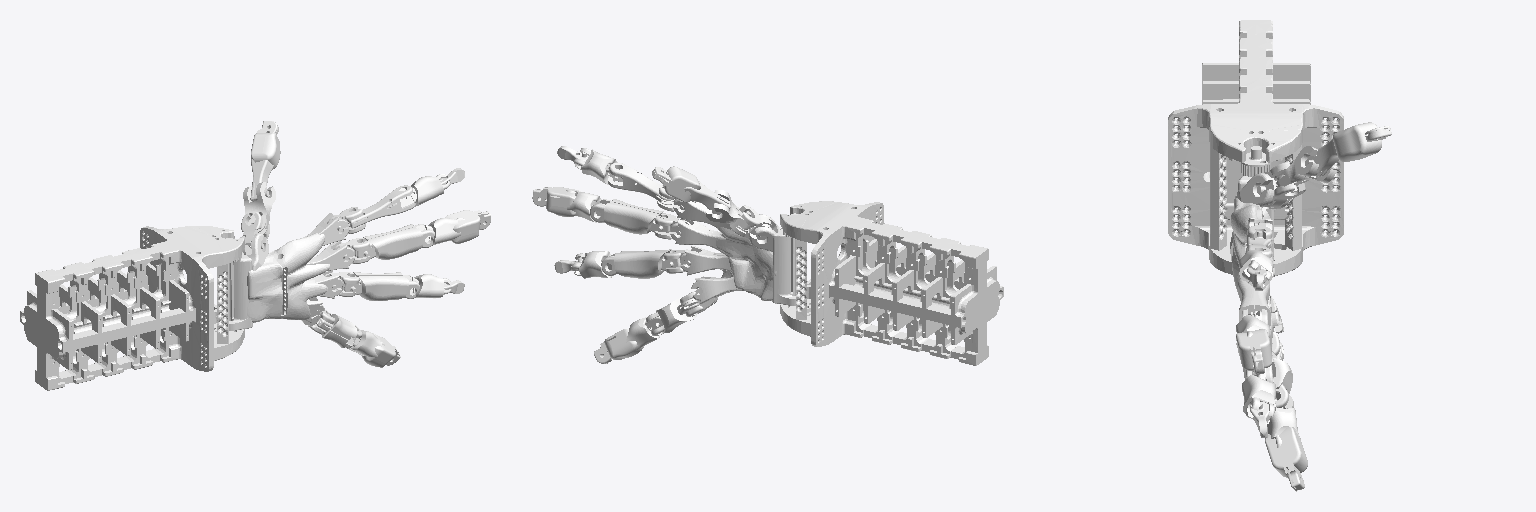
--- Facts derived from the render (not from the file) ---
3 views of the same robot in one strip: view 1: azimuth 30°, elevation 25°; view 2: azimuth 150°, elevation 25°; view 3: azimuth 270°, elevation 25° (orthographic).
Robot: converted_robot — 55 links, 54 joints (21 revolute, 33 fixed); root link hand_root; default pose: all joints at 0.
Links seen in each view (by area): view 1: tower, palm, middle_pp, ring_pp, index_pp, thumb_dp, thumb_pp, middle_dp, index_mp, pinky_pp, ring_mp, middle_mp (+4 smaller); view 2: tower, palm, middle_pp, ring_pp, index_pp, thumb_dp, pinky_pp, middle_dp, pinky_dp, index_mp, thumb_pp, ring_mp (+4 smaller); view 3: tower, palm, pinky_dp, thumb_dp, middle_dp, thumb_pp, ring_mp, middle_pp, thumb_base, pinky_pp, pinky_mp, index_mp (+1 smaller).
Link boxes in pixels (x1=…): tower: x1=20, y1=226, x2=244, y2=390; palm: x1=225, y1=213, x2=354, y2=330; middle_pp: x1=354, y1=224, x2=434, y2=259; ring_pp: x1=341, y1=272, x2=419, y2=300; index_pp: x1=347, y1=185, x2=415, y2=228; thumb_dp: x1=251, y1=121, x2=280, y2=169; thumb_pp: x1=243, y1=182, x2=275, y2=234; middle_dp: x1=445, y1=210, x2=490, y2=243; index_mp: x1=399, y1=174, x2=450, y2=207; pinky_pp: x1=316, y1=314, x2=361, y2=348; ring_mp: x1=404, y1=274, x2=451, y2=298; middle_mp: x1=416, y1=218, x2=464, y2=244; tower: x1=780, y1=201, x2=1003, y2=365; palm: x1=670, y1=199, x2=803, y2=305; middle_pp: x1=590, y1=199, x2=670, y2=234; ring_pp: x1=601, y1=249, x2=680, y2=278; index_pp: x1=608, y1=163, x2=674, y2=204; thumb_dp: x1=652, y1=166, x2=700, y2=202; pinky_pp: x1=646, y1=298, x2=698, y2=335; middle_dp: x1=532, y1=187, x2=580, y2=216; pinky_dp: x1=594, y1=329, x2=643, y2=363; index_mp: x1=574, y1=148, x2=622, y2=184; thumb_pp: x1=706, y1=190, x2=751, y2=231; ring_mp: x1=571, y1=251, x2=613, y2=278; tower: x1=1168, y1=20, x2=1343, y2=276; palm: x1=1230, y1=146, x2=1289, y2=333; pinky_dp: x1=1265, y1=427, x2=1307, y2=491; thumb_dp: x1=1333, y1=122, x2=1391, y2=161; middle_dp: x1=1236, y1=329, x2=1271, y2=374; thumb_pp: x1=1274, y1=146, x2=1336, y2=192; ring_mp: x1=1242, y1=368, x2=1275, y2=423; middle_pp: x1=1238, y1=279, x2=1270, y2=325; thumb_base: x1=1257, y1=162, x2=1305, y2=207; pinky_pp: x1=1272, y1=344, x2=1293, y2=408; pinky_mp: x1=1267, y1=392, x2=1299, y2=447; index_mp: x1=1239, y1=250, x2=1273, y2=289.
Size in the robot's own frame: 0.3551 by 0.1194 by 0.1821 metres.
Meshes: 22 distinct files referenced, 22 mesh visuals loaded (22 binary STL).

robot.urdf — converted_robot:
<?xml version="1.0" ?>
<robot name="converted_robot">
   <link name="hand_root">
      <inertial>
         <origin xyz="0.0 0.0 0.0" rpy="0.0 0.0 0.0"/>
         <mass value="0.0"/>
         <inertia ixx="0.0" iyy="0.0" izz="0.0" ixy="0" ixz="0" iyz="0"/>
      </inertial>
   </link>
   <link name="tower">
      <inertial>
         <origin xyz="0.06437901782600965 1.780279318620321e-05 -0.0003231375226686683" rpy="1.5837086827349487 -0.0029817795619724308 1.5715354932140642"/>
         <mass value="1.1686649766962816"/>
         <inertia ixx="0.0019657087041747615" iyy="0.0017826228325031161" izz="0.0006871001143970954" ixy="0" ixz="0" iyz="0"/>
      </inertial>
      <visual name="tower">
         <origin xyz="0.06437901782600965 1.780279318620321e-05 -0.0003231375226686683" rpy="1.5837086827349485 -0.0029817795619724308 1.5715354932140644"/>
         <geometry>
            <mesh filename="package://viz/models/orca2_hand/urdf/converted_tower.stl"/>
         </geometry>
         <material name="white"/>
      </visual>
   </link>
   <link name="root2tower_fixed_jointbody">
      <inertial>
         <origin xyz="0.0 0.0 0.0" rpy="0.0 0.0 0.0"/>
         <mass value="0.001"/>
         <inertia ixx="1e-09" iyy="1e-09" izz="1e-09" ixy="0" ixz="0" iyz="0"/>
      </inertial>
   </link>
   <joint type="fixed" name="root2tower_fixed">
      <parent link="hand_root"/>
      <child link="root2tower_fixed_jointbody"/>
      <origin xyz="0.0 0.0 0.0" rpy="0.0 0.0 0.0"/>
   </joint>
   <joint type="fixed" name="root2tower_fixed_offset">
      <parent link="root2tower_fixed_jointbody"/>
      <child link="tower"/>
      <origin xyz="-0.0 -0.0 -0.0" rpy="0.0 0.0 0.0"/>
   </joint>
   <link name="palm">
      <inertial>
         <origin xyz="0.0031912473878069774 -0.0006749899283967215 -0.015136850518871516" rpy="0.11405696582152314 0.0015084000918792473 1.5488013055321626"/>
         <mass value="0.15921340555544056"/>
         <inertia ixx="0.00012037851270871299" iyy="8.589315006598176e-05" izz="4.155619420983368e-05" ixy="0" ixz="0" iyz="0"/>
      </inertial>
      <visual name="palm_tower">
         <origin xyz="0.0031912473878069774 -0.0006749899283967215 -0.015136850518871516" rpy="0.11405696582152303 0.0015084000918792473 1.5488013055321623"/>
         <geometry>
            <mesh filename="package://viz/models/orca2_hand/urdf/converted_palm_tower.stl"/>
         </geometry>
         <material name="white"/>
      </visual>
   </link>
   <link name="tower2root_jointbody">
      <inertial>
         <origin xyz="0.0 0.0 0.0" rpy="0.0 0.0 0.0"/>
         <mass value="0.001"/>
         <inertia ixx="1e-09" iyy="1e-09" izz="1e-09" ixy="0" ixz="0" iyz="0"/>
      </inertial>
   </link>
   <joint type="revolute" name="tower2root">
      <parent link="tower"/>
      <child link="tower2root_jointbody"/>
      <origin xyz="0.144 5.994002132739204e-18 -4.119968255444917e-17" rpy="-0.0 1.5707963267948957 0.0"/>
      <axis xyz="0.9999999999999996 -1.0755285551056194e-15 4.9303806576312877e-32"/>
      <limit lower="-1.3962634015954636" upper="1.3962634015954636" effort="100" velocity="100"/>
   </joint>
   <joint type="fixed" name="tower2root_offset">
      <parent link="tower2root_jointbody"/>
      <child link="palm"/>
      <origin xyz="-0.0020000000000000035 -2.71190195469167e-33 0.05000000000000001" rpy="0.0 0.0 0.0"/>
   </joint>
   <link name="index_um">
      <inertial>
         <origin xyz="0.006732763304155957 4.001088863436687e-09 -2.0258619702217643e-05" rpy="-3.131684616200393 -1.561854856603541 -0.009908433449917098"/>
         <mass value="0.002607186033198995"/>
         <inertia ixx="1.3807074528604164e-07" iyy="1.1778104249469416e-07" izz="6.49217043247213e-08" ixy="0" ixz="0" iyz="0"/>
      </inertial>
      <visual name="index_um">
         <origin xyz="0.006732763304155957 4.001088863436687e-09 -2.0258619702217643e-05" rpy="-3.131684616200393 -1.561854856603541 -0.009908433449916876"/>
         <geometry>
            <mesh filename="package://viz/models/orca2_hand/urdf/converted_index_um.stl"/>
         </geometry>
         <material name="white"/>
      </visual>
   </link>
   <link name="index_abd_jointbody">
      <inertial>
         <origin xyz="0.0 0.0 0.0" rpy="0.0 0.0 0.0"/>
         <mass value="0.001"/>
         <inertia ixx="1e-09" iyy="1e-09" izz="1e-09" ixy="0" ixz="0" iyz="0"/>
      </inertial>
   </link>
   <joint type="revolute" name="index_abd">
      <parent link="palm"/>
      <child link="index_abd_jointbody"/>
      <origin xyz="-0.02202689829157017 0.0015684105070723296 0.035558225043102326" rpy="1.6580627893946036 1.3962634015954642 -9.658940314238862e-15"/>
      <axis xyz="1.942890293094024e-15 -1.1102230246251565e-16 0.9999999999999977"/>
      <limit lower="-0.4363323129985824" upper="0.6108652381980153" effort="100" velocity="100"/>
   </joint>
   <joint type="fixed" name="index_abd_offset">
      <parent link="index_abd_jointbody"/>
      <child link="index_um"/>
      <origin xyz="-0.0144 7.068998164605489e-17 -9.540979117872439e-18" rpy="0.0 0.0 0.0"/>
   </joint>
   <link name="index_pp">
      <inertial>
         <origin xyz="0.0008687401920092231 -2.4862054760042404e-05 0.022247108199277357" rpy="-0.00113071384580111 -0.012433056943532472 0.0237556697838349"/>
         <mass value="0.006075709241757069"/>
         <inertia ixx="1.2759699630750096e-06" iyy="1.261715939586915e-06" izz="1.1563772656262221e-07" ixy="0" ixz="0" iyz="0"/>
      </inertial>
      <visual name="index_pp">
         <origin xyz="0.0008687401920092231 -2.4862054760042404e-05 0.022247108199277357" rpy="-0.0011307138458011082 -0.012433056943532472 0.0237556697838349"/>
         <geometry>
            <mesh filename="package://viz/models/orca2_hand/urdf/converted_index_pp.stl"/>
         </geometry>
         <material name="white"/>
      </visual>
   </link>
   <link name="root2index_pp_jointbody">
      <inertial>
         <origin xyz="0.0 0.0 0.0" rpy="0.0 0.0 0.0"/>
         <mass value="0.001"/>
         <inertia ixx="1e-09" iyy="1e-09" izz="1e-09" ixy="0" ixz="0" iyz="0"/>
      </inertial>
   </link>
   <joint type="revolute" name="root2index_pp">
      <parent link="index_um"/>
      <child link="root2index_pp_jointbody"/>
      <origin xyz="3.9606233593205086e-17 -9.422367056560164e-17 1.3685221253534087e-17" rpy="-3.140184917367559e-16 -1.5707963267948915 0.0"/>
      <axis xyz="8.326672684688674e-16 -1.0000000000000082 -9.506284648352903e-16"/>
      <limit lower="-0.17453292519943295" upper="2.007128639793479" effort="100" velocity="100"/>
   </joint>
   <joint type="fixed" name="root2index_pp_offset">
      <parent link="root2index_pp_jointbody"/>
      <child link="index_pp"/>
      <origin xyz="-1.0507725389252553e-18 -1.0381299611154882e-17 1.8073894221564938e-18" rpy="0.0 0.0 0.0"/>
   </joint>
   <link name="index_mp">
      <inertial>
         <origin xyz="0.0013909738898894978 0.00016387532873425497 0.014968668474816213" rpy="0.03291128493942308 -0.020555715782136996 1.1076943559460612"/>
         <mass value="0.003108373341414378"/>
         <inertia ixx="3.251881563114705e-07" iyy="3.238587171666197e-07" izz="4.895669014432085e-08" ixy="0" ixz="0" iyz="0"/>
      </inertial>
      <visual name="index_mp">
         <origin xyz="0.0013909738898894978 0.00016387532873425497 0.014968668474816213" rpy="0.03291128493942308 -0.020555715782136774 1.107694355946061"/>
         <geometry>
            <mesh filename="package://viz/models/orca2_hand/urdf/converted_index_mp.stl"/>
         </geometry>
         <material name="white"/>
      </visual>
   </link>
   <link name="index_pp2mp_jointbody">
      <inertial>
         <origin xyz="0.0 0.0 0.0" rpy="0.0 0.0 0.0"/>
         <mass value="0.001"/>
         <inertia ixx="1e-09" iyy="1e-09" izz="1e-09" ixy="0" ixz="0" iyz="0"/>
      </inertial>
   </link>
   <joint type="revolute" name="index_pp2mp">
      <parent link="index_pp"/>
      <child link="index_pp2mp_jointbody"/>
      <origin xyz="-2.0218402492608785e-16 5.368471504812676e-17 0.040000000000000036" rpy="8.187894806610526e-16 4.440892098500626e-16 -6.661338147750935e-16"/>
      <axis xyz="2.7755575615628914e-16 -1.0000000000000036 -1.0408340855860843e-16"/>
      <limit lower="0.0" upper="2.0943951023931953" effort="100" velocity="100"/>
   </joint>
   <joint type="fixed" name="index_pp2mp_offset">
      <parent link="index_pp2mp_jointbody"/>
      <child link="index_mp"/>
      <origin xyz="-3.597547411660925e-18 6.102387480083956e-17 -5.305012189775878e-17" rpy="0.0 0.0 0.0"/>
   </joint>
   <link name="index_dp">
      <inertial>
         <origin xyz="-1.3890187096631583e-05 0.005054400100332685 -0.00020300962240500135" rpy="1.4604505475177294 -0.03444883339617988 0.0022630734580013634"/>
         <mass value="0.0011385821737687244"/>
         <inertia ixx="5.751980191525933e-08" iyy="5.65392336466142e-08" izz="1.0221302805317223e-08" ixy="0" ixz="0" iyz="0"/>
      </inertial>
      <visual name="index_dp">
         <origin xyz="-1.3890187096631583e-05 0.005054400100332685 -0.00020300962240500135" rpy="1.4604505475177294 -0.03444883339617988 0.0022630734580013634"/>
         <geometry>
            <mesh filename="package://viz/models/orca2_hand/urdf/converted_index_dp.stl"/>
         </geometry>
         <material name="white"/>
      </visual>
   </link>
   <link name="index_mp2dp_jointbody">
      <inertial>
         <origin xyz="0.0 0.0 0.0" rpy="0.0 0.0 0.0"/>
         <mass value="0.001"/>
         <inertia ixx="1e-09" iyy="1e-09" izz="1e-09" ixy="0" ixz="0" iyz="0"/>
      </inertial>
   </link>
   <joint type="revolute" name="index_mp2dp">
      <parent link="index_mp"/>
      <child link="index_mp2dp_jointbody"/>
      <origin xyz="0.000999999999999872 -2.15485181781494e-16 0.02799999999999978" rpy="1.5707963267948917 -3.552713678800501e-15 1.5707963267948988"/>
      <axis xyz="-0.9999999999999916 3.6012859361278515e-15 -1.0720591081536668e-15"/>
      <limit lower="0.0" upper="1.3089969389957472" effort="100" velocity="100"/>
   </joint>
   <joint type="fixed" name="index_mp2dp_offset">
      <parent link="index_mp2dp_jointbody"/>
      <child link="index_dp"/>
      <origin xyz="-9.999999999992125e-05 5.378659215064807e-18 1.170176016631816e-18" rpy="0.0 0.0 0.0"/>
   </joint>
   <link name="index_fingertip">
      <inertial>
         <origin xyz="0.0 0.02 -0.001306" rpy="0.0 0.0 0.0"/>
         <mass value="0.0"/>
         <inertia ixx="0.0" iyy="0.0" izz="0.0" ixy="0" ixz="0" iyz="0"/>
      </inertial>
   </link>
   <link name="index_dp2index_fingertip_fixed_jointbody">
      <inertial>
         <origin xyz="0.0 0.0 0.0" rpy="0.0 0.0 0.0"/>
         <mass value="0.001"/>
         <inertia ixx="1e-09" iyy="1e-09" izz="1e-09" ixy="0" ixz="0" iyz="0"/>
      </inertial>
   </link>
   <joint type="fixed" name="index_dp2index_fingertip_fixed">
      <parent link="index_dp"/>
      <child link="index_dp2index_fingertip_fixed_jointbody"/>
      <origin xyz="0.0 0.02 -0.001306" rpy="0.0 0.0 0.0"/>
   </joint>
   <joint type="fixed" name="index_dp2index_fingertip_fixed_offset">
      <parent link="index_dp2index_fingertip_fixed_jointbody"/>
      <child link="index_fingertip"/>
      <origin xyz="-0.0 -0.0 -0.0" rpy="0.0 0.0 0.0"/>
   </joint>
   <link name="pinky_um">
      <inertial>
         <origin xyz="0.006732763304155957 4.001088863436687e-09 -2.0258619702217643e-05" rpy="-3.131684616200393 -1.561854856603541 -0.009908433449917098"/>
         <mass value="0.002607186033198995"/>
         <inertia ixx="1.3807074528604164e-07" iyy="1.1778104249469416e-07" izz="6.49217043247213e-08" ixy="0" ixz="0" iyz="0"/>
      </inertial>
      <visual name="pinky_um">
         <origin xyz="0.006732763304155957 4.001088863436687e-09 -2.0258619702217643e-05" rpy="-3.131684616200393 -1.561854856603541 -0.009908433449916876"/>
         <geometry>
            <mesh filename="package://viz/models/orca2_hand/urdf/converted_pinky_um.stl"/>
         </geometry>
         <material name="white"/>
      </visual>
   </link>
   <link name="pinky_abd_jointbody">
      <inertial>
         <origin xyz="0.0 0.0 0.0" rpy="0.0 0.0 0.0"/>
         <mass value="0.001"/>
         <inertia ixx="1e-09" iyy="1e-09" izz="1e-09" ixy="0" ixz="0" iyz="0"/>
      </inertial>
   </link>
   <joint type="revolute" name="pinky_abd">
      <parent link="palm"/>
      <child link="pinky_abd_jointbody"/>
      <origin xyz="0.04123255613565274 0.005128234212297326 0.015805277968103576" rpy="-1.579920941226867 0.9076077576902897 -2.878188100691394"/>
      <axis xyz="-2.7755575615628914e-17 -1.6653345369377348e-16 -1.0000000000000009"/>
      <limit lower="-0.6108652381980153" upper="0.4363323129985824" effort="100" velocity="100"/>
   </joint>
   <joint type="fixed" name="pinky_abd_offset">
      <parent link="pinky_abd_jointbody"/>
      <child link="pinky_um"/>
      <origin xyz="-0.014400000000000007 1.1275702593849246e-17 -1.5829351718288365e-17" rpy="0.0 0.0 0.0"/>
   </joint>
   <link name="pinky_pp">
      <inertial>
         <origin xyz="0.0008258154520941577 -2.2222565756841063e-05 0.016729787379917885" rpy="-0.0012233283283072625 -0.019834837027373764 0.012268708074692703"/>
         <mass value="0.0046751560406718806"/>
         <inertia ixx="6.47008260669387e-07" iyy="6.357773713013815e-07" izz="9.004187327563991e-08" ixy="0" ixz="0" iyz="0"/>
      </inertial>
      <visual name="pinky_pp">
         <origin xyz="0.0008258154520941577 -2.2222565756841063e-05 0.016729787379917885" rpy="-0.0012233283283072625 -0.019834837027373764 0.012268708074692703"/>
         <geometry>
            <mesh filename="package://viz/models/orca2_hand/urdf/converted_pinky_pp.stl"/>
         </geometry>
         <material name="white"/>
      </visual>
   </link>
   <link name="root2pinky_pp_jointbody">
      <inertial>
         <origin xyz="0.0 0.0 0.0" rpy="0.0 0.0 0.0"/>
         <mass value="0.001"/>
         <inertia ixx="1e-09" iyy="1e-09" izz="1e-09" ixy="0" ixz="0" iyz="0"/>
      </inertial>
   </link>
   <joint type="revolute" name="root2pinky_pp">
      <parent link="pinky_um"/>
      <child link="root2pinky_pp_jointbody"/>
      <origin xyz="1.7702462397522765e-17 -1.1331096051742205e-17 -6.361123313678201e-18" rpy="-7.850462293418875e-17 -1.5707963267948963 0.0"/>
      <axis xyz="-3.885780586188048e-16 -0.9999999999999996 -8.465450562766819e-16"/>
      <limit lower="-0.17453292519943295" upper="2.007128639793479" effort="100" velocity="100"/>
   </joint>
   <joint type="fixed" name="root2pinky_pp_offset">
      <parent link="root2pinky_pp_jointbody"/>
      <child link="pinky_pp"/>
      <origin xyz="3.237906566374557e-18 2.1668957835962876e-18 -1.5894815400683688e-17" rpy="0.0 0.0 0.0"/>
   </joint>
   <link name="pinky_mp">
      <inertial>
         <origin xyz="0.0013909738898894978 0.00016387532873425497 0.014968668474816213" rpy="0.03291128493942308 -0.020555715782136996 1.1076943559460612"/>
         <mass value="0.003108373341414378"/>
         <inertia ixx="3.251881563114705e-07" iyy="3.238587171666197e-07" izz="4.895669014432085e-08" ixy="0" ixz="0" iyz="0"/>
      </inertial>
      <visual name="pinky_mp">
         <origin xyz="0.0013909738898894978 0.00016387532873425497 0.014968668474816213" rpy="0.03291128493942308 -0.020555715782136774 1.107694355946061"/>
         <geometry>
            <mesh filename="package://viz/models/orca2_hand/urdf/converted_pinky_mp.stl"/>
         </geometry>
         <material name="white"/>
      </visual>
   </link>
   <link name="pinky_pp2mp_jointbody">
      <inertial>
         <origin xyz="0.0 0.0 0.0" rpy="0.0 0.0 0.0"/>
         <mass value="0.001"/>
         <inertia ixx="1e-09" iyy="1e-09" izz="1e-09" ixy="0" ixz="0" iyz="0"/>
      </inertial>
   </link>
   <joint type="revolute" name="pinky_pp2mp">
      <parent link="pinky_pp"/>
      <child link="pinky_pp2mp_jointbody"/>
      <origin xyz="1.652844361054724e-18 -2.6807287263060844e-18 0.03000000000000004" rpy="2.49800180540661e-16 5.773159728050814e-15 7.395570986446986e-31"/>
      <axis xyz="-4.996003610813204e-16 -1.0000000000000064 -1.249000902703301e-16"/>
      <limit lower="0.0" upper="2.0943951023931953" effort="100" velocity="100"/>
   </joint>
   <joint type="fixed" name="pinky_pp2mp_offset">
      <parent link="pinky_pp2mp_jointbody"/>
      <child link="pinky_mp"/>
      <origin xyz="-8.591738264962151e-18 -2.3773804282340214e-17 3.419878436337367e-17" rpy="0.0 0.0 0.0"/>
   </joint>
   <link name="pinky_dp">
      <inertial>
         <origin xyz="-1.3890187096631583e-05 0.005054400100332685 -0.00020300962240500135" rpy="1.4604505475177294 -0.03444883339617988 0.0022630734580013634"/>
         <mass value="0.0011385821737687244"/>
         <inertia ixx="5.751980191525933e-08" iyy="5.65392336466142e-08" izz="1.0221302805317223e-08" ixy="0" ixz="0" iyz="0"/>
      </inertial>
      <visual name="pinky_dp">
         <origin xyz="-1.3890187096631583e-05 0.005054400100332685 -0.00020300962240500135" rpy="1.4604505475177294 -0.03444883339617988 0.0022630734580013634"/>
         <geometry>
            <mesh filename="package://viz/models/orca2_hand/urdf/converted_pinky_dp.stl"/>
         </geometry>
         <material name="white"/>
      </visual>
   </link>
   <link name="pinky_mp2dp_jointbody">
      <inertial>
         <origin xyz="0.0 0.0 0.0" rpy="0.0 0.0 0.0"/>
         <mass value="0.001"/>
         <inertia ixx="1e-09" iyy="1e-09" izz="1e-09" ixy="0" ixz="0" iyz="0"/>
      </inertial>
   </link>
   <joint type="revolute" name="pinky_mp2dp">
      <parent link="pinky_mp"/>
      <child link="pinky_mp2dp_jointbody"/>
      <origin xyz="0.0009999999999998701 2.946319403729358e-17 0.028000000000000025" rpy="1.5707963267948906 -6.661338147750939e-16 1.5707963267948968"/>
      <axis xyz="-0.9999999999999996 2.7755575615628914e-16 -4.718447854656915e-16"/>
      <limit lower="0.0" upper="1.3089969389957472" effort="100" velocity="100"/>
   </joint>
   <joint type="fixed" name="pinky_mp2dp_offset">
      <parent link="pinky_mp2dp_jointbody"/>
      <child link="pinky_dp"/>
      <origin xyz="-0.00010000000000000671 -4.875352237806302e-17 -1.2314164987183018e-17" rpy="0.0 0.0 0.0"/>
   </joint>
   <link name="pinky_fingertip">
      <inertial>
         <origin xyz="0.0 0.02 -0.001306" rpy="0.0 0.0 0.0"/>
         <mass value="0.0"/>
         <inertia ixx="0.0" iyy="0.0" izz="0.0" ixy="0" ixz="0" iyz="0"/>
      </inertial>
   </link>
   <link name="pinky_dp2pinky_fingertip_fixed_jointbody">
      <inertial>
         <origin xyz="0.0 0.0 0.0" rpy="0.0 0.0 0.0"/>
         <mass value="0.001"/>
         <inertia ixx="1e-09" iyy="1e-09" izz="1e-09" ixy="0" ixz="0" iyz="0"/>
      </inertial>
   </link>
   <joint type="fixed" name="pinky_dp2pinky_fingertip_fixed">
      <parent link="pinky_dp"/>
      <child link="pinky_dp2pinky_fingertip_fixed_jointbody"/>
      <origin xyz="0.0 0.02 -0.001306" rpy="0.0 0.0 0.0"/>
   </joint>
   <joint type="fixed" name="pinky_dp2pinky_fingertip_fixed_offset">
      <parent link="pinky_dp2pinky_fingertip_fixed_jointbody"/>
      <child link="pinky_fingertip"/>
      <origin xyz="-0.0 -0.0 -0.0" rpy="0.0 0.0 0.0"/>
   </joint>
   <link name="ring_um">
      <inertial>
         <origin xyz="0.006732763304155957 4.001088863436687e-09 -2.0258619702217643e-05" rpy="-3.131684616200393 -1.561854856603541 -0.009908433449917098"/>
         <mass value="0.002607186033198995"/>
         <inertia ixx="1.3807074528604164e-07" iyy="1.1778104249469416e-07" izz="6.49217043247213e-08" ixy="0" ixz="0" iyz="0"/>
      </inertial>
      <visual name="ring_um">
         <origin xyz="0.006732763304155957 4.001088863436687e-09 -2.0258619702217643e-05" rpy="-3.131684616200393 -1.561854856603541 -0.009908433449916876"/>
         <geometry>
            <mesh filename="package://viz/models/orca2_hand/urdf/converted_ring_um.stl"/>
         </geometry>
         <material name="white"/>
      </visual>
   </link>
   <link name="ring_abd_jointbody">
      <inertial>
         <origin xyz="0.0 0.0 0.0" rpy="0.0 0.0 0.0"/>
         <mass value="0.001"/>
         <inertia ixx="1e-09" iyy="1e-09" izz="1e-09" ixy="0" ixz="0" iyz="0"/>
      </inertial>
   </link>
   <joint type="revolute" name="ring_abd">
      <parent link="palm"/>
      <child link="ring_abd_jointbody"/>
      <origin xyz="0.019694864162417454 0.0013825982229840484 0.030586364349873843" rpy="-1.5707963267948946 1.308996938995747 -3.054326190990076"/>
      <axis xyz="-8.326672684688674e-17 2.220446049250313e-16 0.9999999999999979"/>
      <limit lower="-0.4363323129985824" upper="0.6108652381980153" effort="100" velocity="100"/>
   </joint>
   <joint type="fixed" name="ring_abd_offset">
      <parent link="ring_abd_jointbody"/>
      <child link="ring_um"/>
      <origin xyz="-0.014399999999999923 5.2475385148298415e-17 3.903127820947816e-18" rpy="0.0 0.0 0.0"/>
   </joint>
   <link name="ring_pp">
      <inertial>
         <origin xyz="0.0008879048431632835 -2.537949357785257e-05 0.026668810452510044" rpy="-0.0011314495857910837 -0.009859569454313544 0.029169093210231874"/>
         <mass value="0.007199054377400034"/>
         <inertia ixx="2.0187701497182777e-06" iyy="2.002065106814579e-06" izz="1.361803516902417e-07" ixy="0" ixz="0" iyz="0"/>
      </inertial>
      <visual name="ring_pp">
         <origin xyz="0.0008879048431632835 -2.537949357785257e-05 0.026668810452510044" rpy="-0.0011314495857910837 -0.009859569454313544 0.029169093210231874"/>
         <geometry>
            <mesh filename="package://viz/models/orca2_hand/urdf/converted_ring_pp.stl"/>
         </geometry>
         <material name="white"/>
      </visual>
   </link>
   <link name="root2ring_pp_jointbody">
      <inertial>
         <origin xyz="0.0 0.0 0.0" rpy="0.0 0.0 0.0"/>
         <mass value="0.001"/>
         <inertia ixx="1e-09" iyy="1e-09" izz="1e-09" ixy="0" ixz="0" iyz="0"/>
      </inertial>
   </link>
   <joint type="revolute" name="root2ring_pp">
      <parent link="ring_um"/>
      <child link="root2ring_pp_jointbody"/>
      <origin xyz="-7.079094348244037e-17 -1.1114218455696548e-16 2.2466569823203384e-17" rpy="3.552713678800501e-15 -1.5707963267948937 0.0"/>
      <axis xyz="1.887379141862766e-15 -1.0000000000000049 4.1494585545365226e-15"/>
      <limit lower="-0.17453292519943295" upper="2.007128639793479" effort="100" velocity="100"/>
   </joint>
   <joint type="fixed" name="root2ring_pp_offset">
      <parent link="root2ring_pp_jointbody"/>
      <child link="ring_pp"/>
      <origin xyz="-2.1621119931780223e-19 6.062911924869317e-18 4.472658181669709e-17" rpy="0.0 0.0 0.0"/>
   </joint>
   <link name="ring_mp">
      <inertial>
         <origin xyz="0.0013909738898894978 0.00016387532873425497 0.014968668474816213" rpy="0.03291128493942308 -0.020555715782136996 1.1076943559460612"/>
         <mass value="0.003108373341414378"/>
         <inertia ixx="3.251881563114705e-07" iyy="3.238587171666197e-07" izz="4.895669014432085e-08" ixy="0" ixz="0" iyz="0"/>
      </inertial>
      <visual name="ring_mp">
         <origin xyz="0.0013909738898894978 0.00016387532873425497 0.014968668474816213" rpy="0.03291128493942308 -0.020555715782136774 1.107694355946061"/>
         <geometry>
            <mesh filename="package://viz/models/orca2_hand/urdf/converted_ring_mp.stl"/>
         </geometry>
         <material name="white"/>
      </visual>
   </link>
   <link name="ring_pp2mp_jointbody">
      <inertial>
         <origin xyz="0.0 0.0 0.0" rpy="0.0 0.0 0.0"/>
         <mass value="0.001"/>
         <inertia ixx="1e-09" iyy="1e-09" izz="1e-09" ixy="0" ixz="0" iyz="0"/>
      </inertial>
   </link>
   <joint type="revolute" name="ring_pp2mp">
      <parent link="ring_pp"/>
      <child link="ring_pp2mp_jointbody"/>
      <origin xyz="3.376451560558019e-17 2.7849414523275e-16 0.04800000000000019" rpy="1.0269562977782832e-15 8.43769498715119e-15 2.664535259100386e-15"/>
      <axis xyz="-1.9984014443252818e-15 -0.9999999999999992 2.5396351688300456e-15"/>
      <limit lower="0.0" upper="2.0943951023931953" effort="100" velocity="100"/>
   </joint>
   <joint type="fixed" name="ring_pp2mp_offset">
      <parent link="ring_pp2mp_jointbody"/>
      <child link="ring_mp"/>
      <origin xyz="6.5678052108806596e-18 -7.769990288843462e-17 -3.518696938514808e-17" rpy="0.0 0.0 0.0"/>
   </joint>
   <link name="ring_dp">
      <inertial>
         <origin xyz="-1.3890187096631583e-05 0.005054400100332685 -0.00020300962240500135" rpy="1.4604505475177294 -0.03444883339617988 0.0022630734580013634"/>
         <mass value="0.0011385821737687244"/>
         <inertia ixx="5.751980191525933e-08" iyy="5.65392336466142e-08" izz="1.0221302805317223e-08" ixy="0" ixz="0" iyz="0"/>
      </inertial>
      <visual name="ring_dp">
         <origin xyz="-1.3890187096631583e-05 0.005054400100332685 -0.00020300962240500135" rpy="1.4604505475177294 -0.03444883339617988 0.0022630734580013634"/>
         <geometry>
            <mesh filename="package://viz/models/orca2_hand/urdf/converted_ring_dp.stl"/>
         </geometry>
         <material name="white"/>
      </visual>
   </link>
   <link name="ring_mp2dp_jointbody">
      <inertial>
         <origin xyz="0.0 0.0 0.0" rpy="0.0 0.0 0.0"/>
         <mass value="0.001"/>
         <inertia ixx="1e-09" iyy="1e-09" izz="1e-09" ixy="0" ixz="0" iyz="0"/>
      </inertial>
   </link>
   <joint type="revolute" name="ring_mp2dp">
      <parent link="ring_mp"/>
      <child link="ring_mp2dp_jointbody"/>
      <origin xyz="0.0009999999999997717 -1.8811635228396815e-16 0.028000000000000053" rpy="1.5707963267948908 4.6629367034256575e-15 1.5707963267948934"/>
      <axis xyz="-1.0000000000000004 -2.213507155346406e-15 3.656797087359109e-15"/>
      <limit lower="0.0" upper="1.3089969389957472" effort="100" velocity="100"/>
   </joint>
   <joint type="fixed" name="ring_mp2dp_offset">
      <parent link="ring_mp2dp_jointbody"/>
      <child link="ring_dp"/>
      <origin xyz="-1.2738647990931297e-16 -1.203371633436387e-16 1.0888894666999057e-17" rpy="0.0 0.0 0.0"/>
   </joint>
   <link name="ring_fingertip">
      <inertial>
         <origin xyz="0.0 0.02 -0.001306" rpy="0.0 0.0 0.0"/>
         <mass value="0.0"/>
         <inertia ixx="0.0" iyy="0.0" izz="0.0" ixy="0" ixz="0" iyz="0"/>
      </inertial>
   </link>
   <link name="ring_dp2ring_fingertip_fixed_jointbody">
      <inertial>
         <origin xyz="0.0 0.0 0.0" rpy="0.0 0.0 0.0"/>
         <mass value="0.001"/>
         <inertia ixx="1e-09" iyy="1e-09" izz="1e-09" ixy="0" ixz="0" iyz="0"/>
      </inertial>
   </link>
   <joint type="fixed" name="ring_dp2ring_fingertip_fixed">
      <parent link="ring_dp"/>
      <child link="ring_dp2ring_fingertip_fixed_jointbody"/>
      <origin xyz="0.0 0.02 -0.001306" rpy="0.0 0.0 0.0"/>
   </joint>
   <joint type="fixed" name="ring_dp2ring_fingertip_fixed_offset">
      <parent link="ring_dp2ring_fingertip_fixed_jointbody"/>
      <child link="ring_fingertip"/>
      <origin xyz="-0.0 -0.0 -0.0" rpy="0.0 0.0 0.0"/>
   </joint>
   <link name="thumb_base">
      <inertial>
         <origin xyz="0.009146054539715962 5.296465019593427e-05 2.762635867494183e-06" rpy="1.5609087911830748 -1.5306517014896879 1.599685076742187"/>
         <mass value="0.004462909298601651"/>
         <inertia ixx="3.475601337005608e-07" iyy="3.0144183100196083e-07" izz="1.505553164619097e-07" ixy="0" ixz="0" iyz="0"/>
      </inertial>
      <visual name="thumb_base">
         <origin xyz="0.009146054539715962 5.296465019593427e-05 2.762635867494183e-06" rpy="1.5609087911830748 -1.5306517014896879 1.599685076742187"/>
         <geometry>
            <mesh filename="package://viz/models/orca2_hand/urdf/converted_thumb_base.stl"/>
         </geometry>
         <material name="white"/>
      </visual>
   </link>
   <link name="root2thumb_base_jointbody">
      <inertial>
         <origin xyz="0.0 0.0 0.0" rpy="0.0 0.0 0.0"/>
         <mass value="0.001"/>
         <inertia ixx="1e-09" iyy="1e-09" izz="1e-09" ixy="0" ixz="0" iyz="0"/>
      </inertial>
   </link>
   <joint type="revolute" name="root2thumb_base">
      <parent link="palm"/>
      <child link="root2thumb_base_jointbody"/>
      <origin xyz="-0.019336685560293027 0.007354881795979842 -0.02738447811197527" rpy="0.8650692244264337 0.5077476451224614 -0.8026267442856483"/>
      <axis xyz="3.0531133177191805e-16 4.440892098500626e-15 0.9999999999999966"/>
      <limit lower="-1.3089969389957472" upper="1.3089969389957472" effort="100" velocity="100"/>
   </joint>
   <joint type="fixed" name="root2thumb_base_offset">
      <parent link="root2thumb_base_jointbody"/>
      <child link="thumb_base"/>
      <origin xyz="-0.016900000000000383 -1.2663481374630692e-16 -1.857238321467669e-16" rpy="0.0 0.0 0.0"/>
   </joint>
   <link name="thumb_pp">
      <inertial>
         <origin xyz="0.011052064663332051 1.6203312209423124e-05 3.4258699652190326e-05" rpy="0.033962151123506645 -1.5659078669478594 3.111696080587949"/>
         <mass value="0.005199376106974465"/>
         <inertia ixx="5.397346277253312e-07" iyy="4.918763012442806e-07" izz="1.6602184630010976e-07" ixy="0" ixz="0" iyz="0"/>
      </inertial>
      <visual name="thumb_pp">
         <origin xyz="0.011052064663332051 1.6203312209423124e-05 3.4258699652190326e-05" rpy="0.033962151123505535 -1.5659078669478592 3.1116960805879503"/>
         <geometry>
            <mesh filename="package://viz/models/orca2_hand/urdf/converted_thumb_pp.stl"/>
         </geometry>
         <material name="white"/>
      </visual>
   </link>
   <link name="thumb_base2pp_jointbody">
      <inertial>
         <origin xyz="0.0 0.0 0.0" rpy="0.0 0.0 0.0"/>
         <mass value="0.001"/>
         <inertia ixx="1e-09" iyy="1e-09" izz="1e-09" ixy="0" ixz="0" iyz="0"/>
      </inertial>
   </link>
   <joint type="revolute" name="thumb_base2pp">
      <parent link="thumb_base"/>
      <child link="thumb_base2pp_jointbody"/>
      <origin xyz="5.793976409762536e-16 1.6683717543749632e-16 1.0319280192681784e-16" rpy="-1.5707963267949 -3.1086244689504383e-15 -1.4654943925052066e-14"/>
      <axis xyz="-1.5015766408055242e-14 -5.745404152435185e-15 0.999999999999998"/>
      <limit lower="-0.7853981633974483" upper="0.7853981633974483" effort="100" velocity="100"/>
   </joint>
   <joint type="fixed" name="thumb_base2pp_offset">
      <parent link="thumb_base2pp_jointbody"/>
      <child link="thumb_pp"/>
      <origin xyz="-0.023000000000001106 -1.6393136847980827e-16 -5.915407053080912e-16" rpy="0.0 0.0 0.0"/>
   </joint>
   <link name="thumb_mp">
      <inertial>
         <origin xyz="0.0008724539758762056 2.4727438746056388e-05 0.014659312447177586" rpy="-0.0003364028998661733 -0.01711516449902417 0.008877420129339876"/>
         <mass value="0.004529151319492986"/>
         <inertia ixx="5.870714715027592e-07" iyy="5.782548760385939e-07" izz="9.130226060122018e-08" ixy="0" ixz="0" iyz="0"/>
      </inertial>
      <visual name="thumb_mp">
         <origin xyz="0.0008724539758762056 2.4727438746056388e-05 0.014659312447177586" rpy="-0.0003364028998661733 -0.01711516449902417 0.008877420129339876"/>
         <geometry>
            <mesh filename="package://viz/models/orca2_hand/urdf/converted_thumb_mp.stl"/>
         </geometry>
         <material name="white"/>
      </visual>
   </link>
   <link name="thumb_pp2mp_jointbody">
      <inertial>
         <origin xyz="0.0 0.0 0.0" rpy="0.0 0.0 0.0"/>
         <mass value="0.001"/>
         <inertia ixx="1e-09" iyy="1e-09" izz="1e-09" ixy="0" ixz="0" iyz="0"/>
      </inertial>
   </link>
   <joint type="revolute" name="thumb_pp2mp">
      <parent link="thumb_pp"/>
      <child link="thumb_pp2mp_jointbody"/>
      <origin xyz="1.1005837463337052e-15 1.7945721429140714e-16 6.444859462348048e-16" rpy="3.141592653589785 1.5707963267948641 0.0"/>
      <axis xyz="1.9984014443252818e-14 -0.9999999999999943 -1.1435297153639112e-14"/>
      <limit lower="-0.17453292519943295" upper="1.5707963267948966" effort="100" velocity="100"/>
   </joint>
   <joint type="fixed" name="thumb_pp2mp_offset">
      <parent link="thumb_pp2mp_jointbody"/>
      <child link="thumb_mp"/>
      <origin xyz="-8.28264772479016e-18 5.058868245246064e-18 -9.571993728557986e-17" rpy="0.0 0.0 0.0"/>
   </joint>
   <link name="thumb_dp">
      <inertial>
         <origin xyz="1.0065826614441387e-05 0.006272335517680365 -0.00010113404865312324" rpy="1.4779757020900604 0.03179381852807506 -0.0019765844728094617"/>
         <mass value="0.001814128231283667"/>
         <inertia ixx="1.4115416029381981e-07" iyy="1.3962326809815754e-07" izz="2.257709422103513e-08" ixy="0" ixz="0" iyz="0"/>
      </inertial>
      <visual name="thumb_dp">
         <origin xyz="1.0065826614441387e-05 0.006272335517680365 -0.00010113404865312324" rpy="1.4779757020900601 0.03179381852807506 -0.0019765844728094617"/>
         <geometry>
            <mesh filename="package://viz/models/orca2_hand/urdf/converted_thumb_dp.stl"/>
         </geometry>
         <material name="white"/>
      </visual>
   </link>
   <link name="thumb_mp2dp_jointbody">
      <inertial>
         <origin xyz="0.0 0.0 0.0" rpy="0.0 0.0 0.0"/>
         <mass value="0.001"/>
         <inertia ixx="1e-09" iyy="1e-09" izz="1e-09" ixy="0" ixz="0" iyz="0"/>
      </inertial>
   </link>
   <joint type="revolute" name="thumb_mp2dp">
      <parent link="thumb_mp"/>
      <child link="thumb_mp2dp_jointbody"/>
      <origin xyz="4.2281847092080333e-16 4.4349038165432816e-16 0.0299999999999999" rpy="1.5707963267949152 -7.549516567451064e-15 1.5707963267949303"/>
      <axis xyz="0.9999999999999917 6.494804694057166e-15 1.62231339473351e-14"/>
      <limit lower="-1.7453292519943295" upper="0.0" effort="100" velocity="100"/>
   </joint>
   <joint type="fixed" name="thumb_mp2dp_offset">
      <parent link="thumb_mp2dp_jointbody"/>
      <child link="thumb_dp"/>
      <origin xyz="1.2741892527574519e-17 -1.005995402266765e-16 -9.397995200594752e-17" rpy="0.0 0.0 0.0"/>
   </joint>
   <link name="thumb_fingertip">
      <inertial>
         <origin xyz="0.0 0.02425 -0.001189" rpy="0.0 0.0 0.0"/>
         <mass value="0.0"/>
         <inertia ixx="0.0" iyy="0.0" izz="0.0" ixy="0" ixz="0" iyz="0"/>
      </inertial>
   </link>
   <link name="thumb_dp2thumb_fingertip_fixed_jointbody">
      <inertial>
         <origin xyz="0.0 0.0 0.0" rpy="0.0 0.0 0.0"/>
         <mass value="0.001"/>
         <inertia ixx="1e-09" iyy="1e-09" izz="1e-09" ixy="0" ixz="0" iyz="0"/>
      </inertial>
   </link>
   <joint type="fixed" name="thumb_dp2thumb_fingertip_fixed">
      <parent link="thumb_dp"/>
      <child link="thumb_dp2thumb_fingertip_fixed_jointbody"/>
      <origin xyz="0.0 0.02425 -0.001189" rpy="0.0 0.0 0.0"/>
   </joint>
   <joint type="fixed" name="thumb_dp2thumb_fingertip_fixed_offset">
      <parent link="thumb_dp2thumb_fingertip_fixed_jointbody"/>
      <child link="thumb_fingertip"/>
      <origin xyz="-0.0 -0.0 -0.0" rpy="0.0 0.0 0.0"/>
   </joint>
   <link name="middle_um">
      <inertial>
         <origin xyz="0.006732763304155957 4.001088863436687e-09 -2.0258619702217643e-05" rpy="-3.131684616200393 -1.561854856603541 -0.009908433449917098"/>
         <mass value="0.002607186033198995"/>
         <inertia ixx="1.3807074528604164e-07" iyy="1.1778104249469416e-07" izz="6.49217043247213e-08" ixy="0" ixz="0" iyz="0"/>
      </inertial>
      <visual name="middle_um">
         <origin xyz="0.006732763304155957 4.001088863436687e-09 -2.0258619702217643e-05" rpy="-3.131684616200393 -1.561854856603541 -0.009908433449916876"/>
         <geometry>
            <mesh filename="package://viz/models/orca2_hand/urdf/converted_middle_um.stl"/>
         </geometry>
         <material name="white"/>
      </visual>
   </link>
   <link name="middle_abd_jointbody">
      <inertial>
         <origin xyz="0.0 0.0 0.0" rpy="0.0 0.0 0.0"/>
         <mass value="0.001"/>
         <inertia ixx="1e-09" iyy="1e-09" izz="1e-09" ixy="0" ixz="0" iyz="0"/>
      </inertial>
   </link>
   <joint type="revolute" name="middle_abd">
      <parent link="palm"/>
      <child link="middle_abd_jointbody"/>
      <origin xyz="-0.0009621394664390589 3.819301119317218e-18 0.0389585438155554" rpy="1.5707963267948968 1.5707963267948948 0.0"/>
      <axis xyz="-1.609823385706477e-15 -5.551115123125783e-17 0.9999999999999982"/>
      <limit lower="-0.4363323129985824" upper="0.6108652381980153" effort="100" velocity="100"/>
   </joint>
   <joint type="fixed" name="middle_abd_offset">
      <parent link="middle_abd_jointbody"/>
      <child link="middle_um"/>
      <origin xyz="-0.014399999999999937 -2.168404344971009e-17 -2.3418766925686896e-17" rpy="0.0 0.0 0.0"/>
   </joint>
   <link name="middle_pp">
      <inertial>
         <origin xyz="0.0008879048431632835 -2.537949357785257e-05 0.026668810452510044" rpy="-0.0011314495857910837 -0.009859569454313544 0.029169093210231874"/>
         <mass value="0.007199054377400034"/>
         <inertia ixx="2.0187701497182777e-06" iyy="2.002065106814579e-06" izz="1.361803516902417e-07" ixy="0" ixz="0" iyz="0"/>
      </inertial>
      <visual name="middle_pp">
         <origin xyz="0.0008879048431632835 -2.537949357785257e-05 0.026668810452510044" rpy="-0.0011314495857910837 -0.009859569454313544 0.029169093210231874"/>
         <geometry>
            <mesh filename="package://viz/models/orca2_hand/urdf/converted_middle_pp.stl"/>
         </geometry>
         <material name="white"/>
      </visual>
   </link>
   <link name="root2middle_pp_jointbody">
      <inertial>
         <origin xyz="0.0 0.0 0.0" rpy="0.0 0.0 0.0"/>
         <mass value="0.001"/>
         <inertia ixx="1e-09" iyy="1e-09" izz="1e-09" ixy="0" ixz="0" iyz="0"/>
      </inertial>
   </link>
   <joint type="revolute" name="root2middle_pp">
      <parent link="middle_um"/>
      <child link="root2middle_pp_jointbody"/>
      <origin xyz="-2.7755575615628883e-17 7.9797279894933e-17 1.2326378958831793e-17" rpy="-1.7763568394002505e-15 -1.5707963267948957 0.0"/>
      <axis xyz="4.440892098500626e-16 -0.9999999999999989 -1.6139120735855316e-15"/>
      <limit lower="-0.17453292519943295" upper="2.007128639793479" effort="100" velocity="100"/>
   </joint>
   <joint type="fixed" name="root2middle_pp_offset">
      <parent link="root2middle_pp_jointbody"/>
      <child link="middle_pp"/>
      <origin xyz="4.789446380758887e-20 2.407412430484045e-35 4.887917868404888e-35" rpy="0.0 0.0 0.0"/>
   </joint>
   <link name="middle_mp">
      <inertial>
         <origin xyz="0.0013909738898894978 0.00016387532873425497 0.014968668474816213" rpy="0.03291128493942308 -0.020555715782136996 1.1076943559460612"/>
         <mass value="0.003108373341414378"/>
         <inertia ixx="3.251881563114705e-07" iyy="3.238587171666197e-07" izz="4.895669014432085e-08" ixy="0" ixz="0" iyz="0"/>
      </inertial>
      <visual name="middle_mp">
         <origin xyz="0.0013909738898894978 0.00016387532873425497 0.014968668474816213" rpy="0.03291128493942308 -0.020555715782136774 1.107694355946061"/>
         <geometry>
            <mesh filename="package://viz/models/orca2_hand/urdf/converted_middle_mp.stl"/>
         </geometry>
         <material name="white"/>
      </visual>
   </link>
   <link name="middle_pp2mp_jointbody">
      <inertial>
         <origin xyz="0.0 0.0 0.0" rpy="0.0 0.0 0.0"/>
         <mass value="0.001"/>
         <inertia ixx="1e-09" iyy="1e-09" izz="1e-09" ixy="0" ixz="0" iyz="0"/>
      </inertial>
   </link>
   <joint type="revolute" name="middle_pp2mp">
      <parent link="middle_pp"/>
      <child link="middle_pp2mp_jointbody"/>
      <origin xyz="-1.6582768499728945e-17 1.0489639593821613e-17 0.04800000000000033" rpy="-1.0007424131434651e-16 7.993605777301127e-15 -3.3306690738754834e-16"/>
      <axis xyz="-3.3306690738754696e-16 -1.0000000000000029 -3.9403654086199957e-16"/>
      <limit lower="0.0" upper="2.0943951023931953" effort="100" velocity="100"/>
   </joint>
   <joint type="fixed" name="middle_pp2mp_offset">
      <parent link="middle_pp2mp_jointbody"/>
      <child link="middle_mp"/>
      <origin xyz="8.359114758843884e-17 9.540979117872525e-18 1.3877787807815292e-17" rpy="0.0 0.0 0.0"/>
   </joint>
   <link name="middle_dp">
      <inertial>
         <origin xyz="-1.3890187096631583e-05 0.005054400100332685 -0.00020300962240500135" rpy="1.4604505475177294 -0.03444883339617988 0.0022630734580013634"/>
         <mass value="0.0011385821737687244"/>
         <inertia ixx="5.751980191525933e-08" iyy="5.65392336466142e-08" izz="1.0221302805317223e-08" ixy="0" ixz="0" iyz="0"/>
      </inertial>
      <visual name="middle_dp">
         <origin xyz="-1.3890187096631583e-05 0.005054400100332685 -0.00020300962240500135" rpy="1.4604505475177294 -0.03444883339617988 0.0022630734580013634"/>
         <geometry>
            <mesh filename="package://viz/models/orca2_hand/urdf/converted_middle_dp.stl"/>
         </geometry>
         <material name="white"/>
      </visual>
   </link>
   <link name="middle_mp2dp_jointbody">
      <inertial>
         <origin xyz="0.0 0.0 0.0" rpy="0.0 0.0 0.0"/>
         <mass value="0.001"/>
         <inertia ixx="1e-09" iyy="1e-09" izz="1e-09" ixy="0" ixz="0" iyz="0"/>
      </inertial>
   </link>
   <joint type="revolute" name="middle_mp2dp">
      <parent link="middle_mp"/>
      <child link="middle_mp2dp_jointbody"/>
      <origin xyz="0.0009999999999996654 -3.469446951953682e-18 0.027999999999999824" rpy="1.5707963267948888 -8.881784197001252e-16 1.5707963267948977"/>
      <axis xyz="-0.9999999999999996 6.386501543029423e-16 -1.1761641417377724e-15"/>
      <limit lower="0.0" upper="1.3089969389957472" effort="100" velocity="100"/>
   </joint>
   <joint type="fixed" name="middle_mp2dp_offset">
      <parent link="middle_mp2dp_jointbody"/>
      <child link="middle_dp"/>
      <origin xyz="1.4745149545802805e-17 1.4791141972893971e-31 1.3769367590565884e-16" rpy="0.0 0.0 0.0"/>
   </joint>
   <link name="middle_fingertip">
      <inertial>
         <origin xyz="0.0 0.02 -0.001306" rpy="0.0 0.0 0.0"/>
         <mass value="0.0"/>
         <inertia ixx="0.0" iyy="0.0" izz="0.0" ixy="0" ixz="0" iyz="0"/>
      </inertial>
   </link>
   <link name="middle_dp2middle_fingertip_fixed_jointbody">
      <inertial>
         <origin xyz="0.0 0.0 0.0" rpy="0.0 0.0 0.0"/>
         <mass value="0.001"/>
         <inertia ixx="1e-09" iyy="1e-09" izz="1e-09" ixy="0" ixz="0" iyz="0"/>
      </inertial>
   </link>
   <joint type="fixed" name="middle_dp2middle_fingertip_fixed">
      <parent link="middle_dp"/>
      <child link="middle_dp2middle_fingertip_fixed_jointbody"/>
      <origin xyz="0.0 0.02 -0.001306" rpy="0.0 0.0 0.0"/>
   </joint>
   <joint type="fixed" name="middle_dp2middle_fingertip_fixed_offset">
      <parent link="middle_dp2middle_fingertip_fixed_jointbody"/>
      <child link="middle_fingertip"/>
      <origin xyz="-0.0 -0.0 -0.0" rpy="0.0 0.0 0.0"/>
   </joint>
   <material name="white">
      <color rgba="1 1 1 1"/>
   </material>
</robot>
